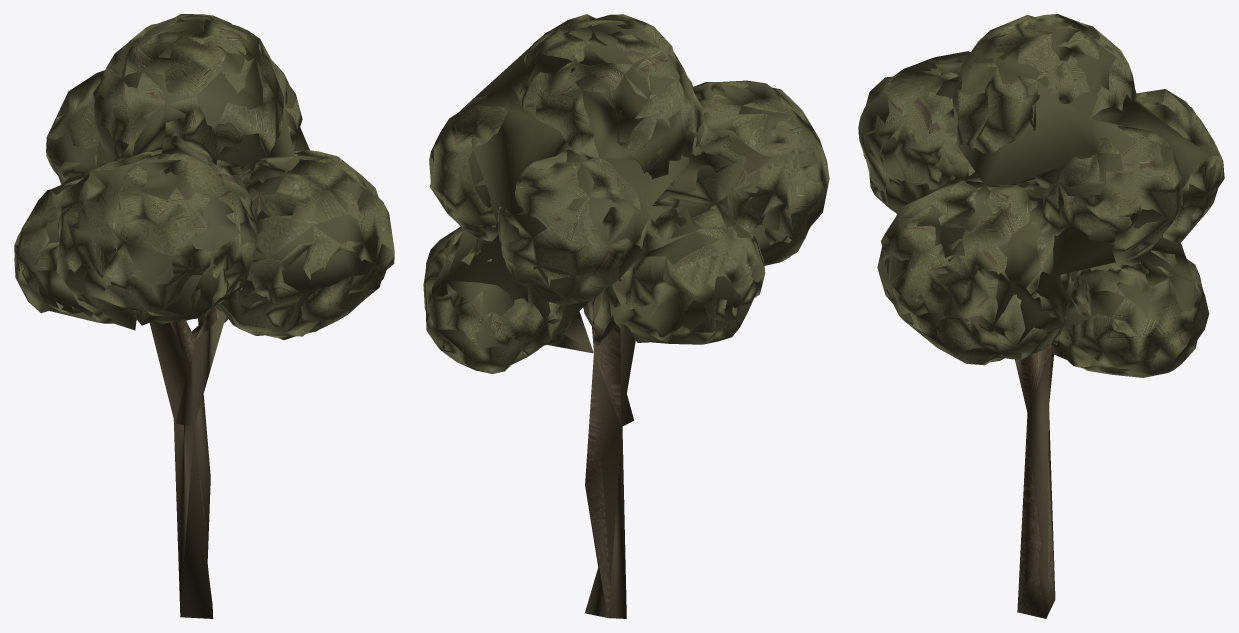
The model's file is encina_joven.glb.
3 renders of one model, left to right at view 1: azimuth 30°, elevation 25°; view 2: azimuth 150°, elevation 25°; view 3: azimuth 270°, elevation 25°, orthographic.
Visible parts, largest first — view 1: cerca, medio, lejos; view 2: cerca, medio, lejos; view 3: cerca, medio, lejos.
Boxes of the visible parts, box(x1,y1,x2,y2) form: cerca: box(14, 14, 394, 618); medio: box(14, 15, 394, 618); lejos: box(49, 41, 379, 614); cerca: box(423, 14, 829, 617); medio: box(427, 14, 829, 475); lejos: box(446, 31, 799, 618); cerca: box(858, 14, 1224, 618); medio: box(858, 14, 1221, 377); lejos: box(886, 15, 1212, 618).
Bounding box in the file's own units: 2.29 × 3.99 × 2.26.
2 materials, 1 textured.
